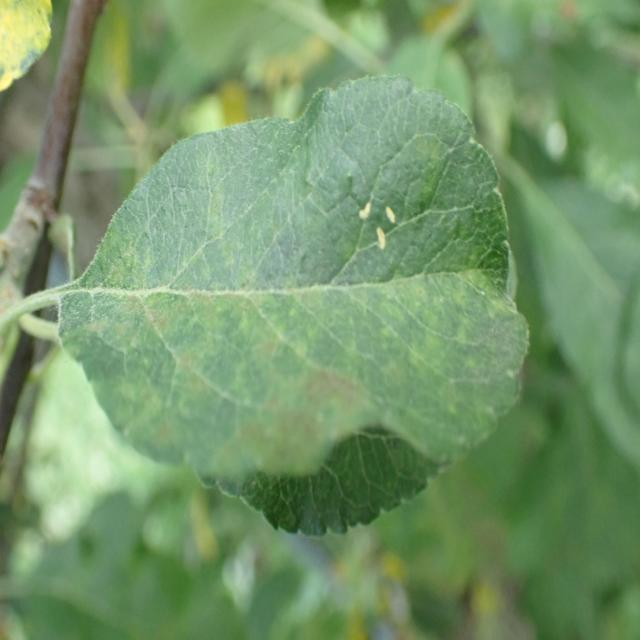scab: (54, 116, 534, 489)
